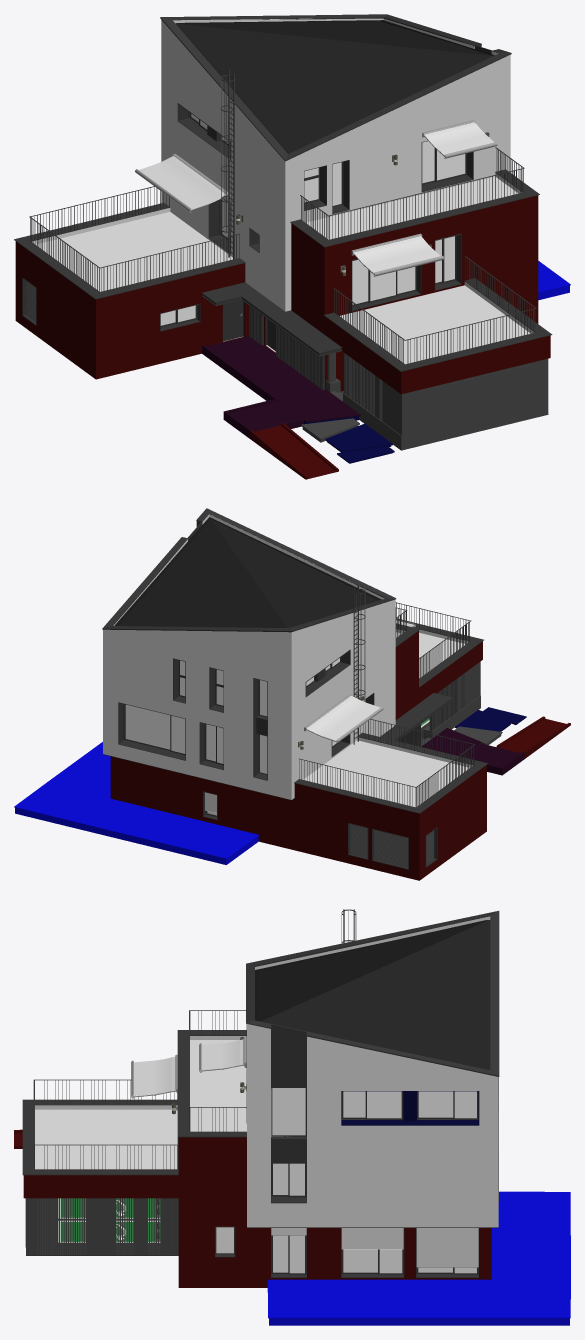
Rendered from exhome_gl1.gltf.
The picture shows the model from 3 angles, top to bottom: view 1: azimuth 30°, elevation 25°; view 2: azimuth 150°, elevation 25°; view 3: azimuth 270°, elevation 25°; orthographic projection. The views are drawn at different scales.
Visible parts, largest first — view 1: Ex_Bottom_Wall.001, Sola_Panel, 2F_EX_VIIEW.002, 2F_EX_VIIEW.003, Entrance, 2F_Floor.011, 2F_Floor.013, Garage_door, Plane.123, Plane.007, Left_Wall, 2F_Floor.009 (+19 smaller); view 2: 2F_EX_VIIEW.001, Ex_Bottom_Wall.001, Sola_Panel, 2F_EX_VIIEW.003, 1F_TERRACE_PANEL, 2F_Floor.011, Entrance, Plane.123, 2F_Floor.009, WinFrame.021, Left_Wall, 2F_Floor.013 (+11 smaller); view 3: 2F_EX_VIIEW.004, Sola_Panel, 1F_TERRACE_PANEL, Ex_Bottom_Wall.001, 2F_Floor.013, Right_Wall, Plane.123, Plane.007, Plane.014, 1F_blind.003, Plane.009, ev_zone (+18 smaller).
Boxes of the visible parts, x1=… form: Ex_Bottom_Wall.001: x1=15, y1=195, x2=550, y2=394; Sola_Panel: x1=175, y1=20, x2=494, y2=153; 2F_EX_VIIEW.002: x1=281, y1=55, x2=510, y2=311; 2F_EX_VIIEW.003: x1=165, y1=24, x2=281, y2=308; Entrance: x1=202, y1=336, x2=394, y2=479; 2F_Floor.011: x1=14, y1=203, x2=245, y2=299; 2F_Floor.013: x1=324, y1=278, x2=552, y2=371; Garage_door: x1=411, y1=361, x2=537, y2=447; Plane.123: x1=160, y1=14, x2=511, y2=161; Plane.007: x1=307, y1=176, x2=517, y2=239; Left_Wall: x1=326, y1=353, x2=411, y2=450; 2F_Floor.009: x1=29, y1=186, x2=239, y2=291; 2F_EX_VIIEW.001: x1=103, y1=629, x2=294, y2=799; Ex_Bottom_Wall.001: x1=110, y1=631, x2=486, y2=880; Sola_Panel: x1=114, y1=517, x2=381, y2=627; 2F_EX_VIIEW.003: x1=295, y1=600, x2=392, y2=781; 1F_TERRACE_PANEL: x1=14, y1=742, x2=259, y2=864; 2F_Floor.011: x1=294, y1=732, x2=488, y2=813; Entrance: x1=421, y1=707, x2=570, y2=775; Plane.123: x1=102, y1=508, x2=396, y2=632; 2F_Floor.009: x1=299, y1=719, x2=475, y2=807; WinFrame.021: x1=123, y1=704, x2=185, y2=754; Left_Wall: x1=421, y1=661, x2=480, y2=746; 2F_Floor.013: x1=396, y1=618, x2=483, y2=687; 2F_EX_VIIEW.004: x1=255, y1=1025, x2=490, y2=1227; Sola_Panel: x1=255, y1=920, x2=490, y2=1069; 1F_TERRACE_PANEL: x1=267, y1=1191, x2=570, y2=1325; Ex_Bottom_Wall.001: x1=23, y1=1137, x2=491, y2=1287; 2F_Floor.013: x1=22, y1=1099, x2=178, y2=1175; Right_Wall: x1=26, y1=1198, x2=178, y2=1255; Plane.123: x1=246, y1=911, x2=499, y2=1076; Plane.007: x1=190, y1=1040, x2=271, y2=1133; Plane.014: x1=271, y1=1025, x2=306, y2=1203; 1F_blind.003: x1=416, y1=1228, x2=478, y2=1267; Plane.009: x1=177, y1=1030, x2=246, y2=1137; ev_zone: x1=58, y1=1198, x2=160, y2=1242.
Size of the model in its own units: 23.24 by 13.17 by 24.75.
Materials: 13 (3 with a texture image).
